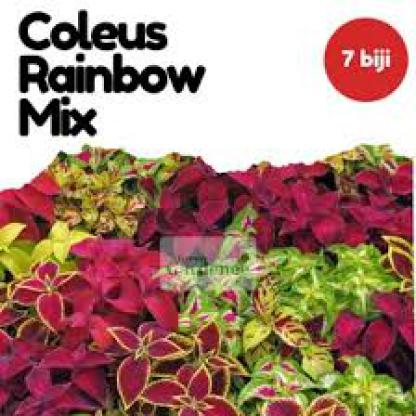Bunga Coleus: (5, 157, 398, 408)
